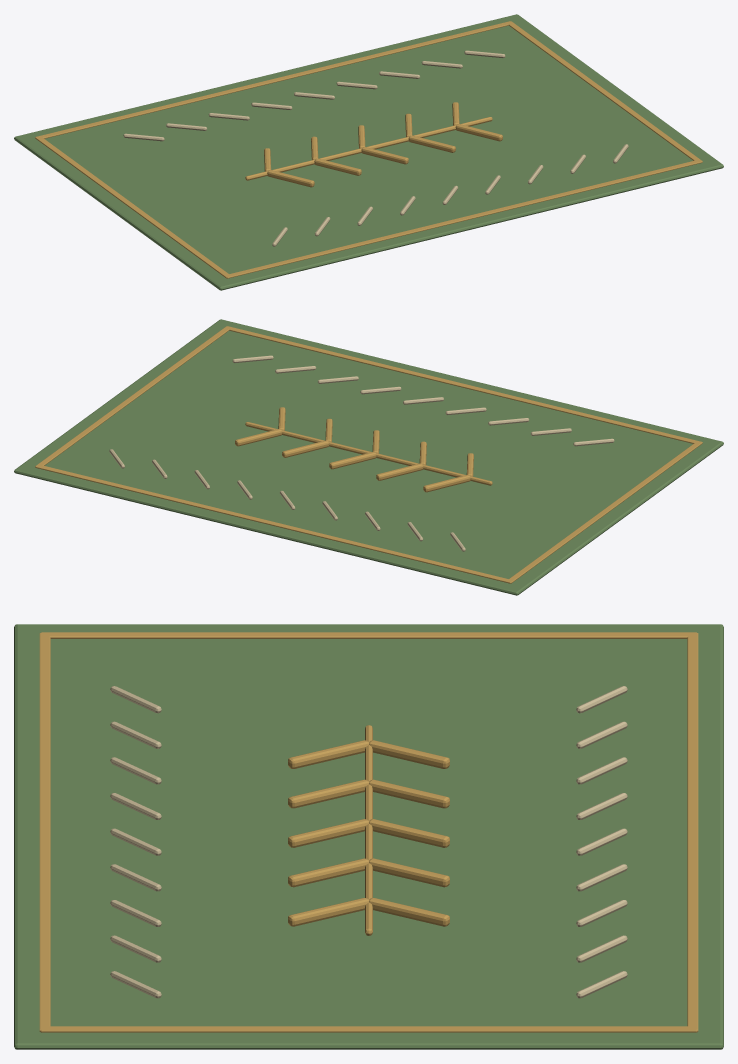
The model's file is SM_HH_Art_Rug.fbx.
3 renders of one model, top to bottom at view 1: azimuth 30°, elevation 25°; view 2: azimuth 150°, elevation 25°; view 3: azimuth 270°, elevation 25°, orthographic. The views are drawn at different scales.
Visible parts, largest first — view 1: HH_Art_Rug; view 2: HH_Art_Rug; view 3: HH_Art_Rug.
Part boxes in pixels (x1=…): HH_Art_Rug: x1=14, y1=14, x2=723, y2=290; HH_Art_Rug: x1=14, y1=319, x2=723, y2=595; HH_Art_Rug: x1=14, y1=624, x2=723, y2=1049.
Size of the model in its own units: 1.6 by 2.25 by 0.0385.
